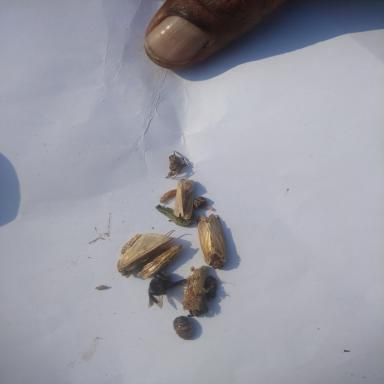abw: (112, 232, 179, 275), (196, 215, 238, 269), (172, 180, 196, 218)
